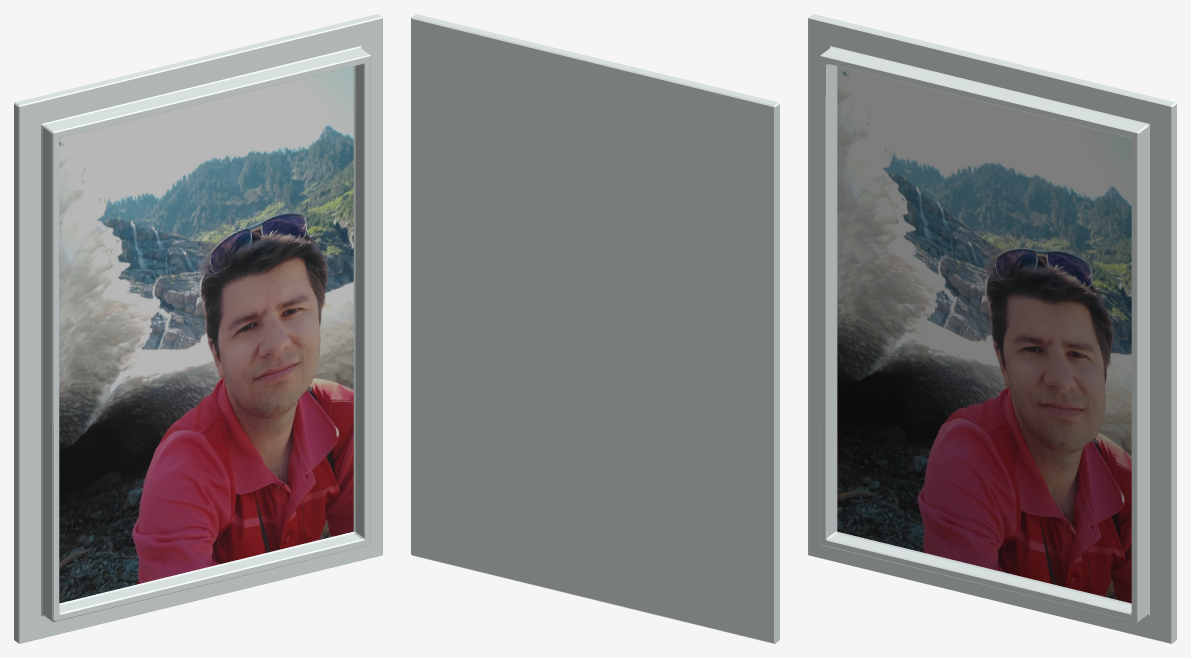
File: aws_PortraitB_01_visual.DAE
The picture shows the model from 3 angles, left to right: view 1: azimuth 30°, elevation 25°; view 2: azimuth 150°, elevation 25°; view 3: azimuth 330°, elevation 25°; orthographic projection.
Visible parts, largest first — view 1: aws_PortraitB_01_visual; view 2: aws_PortraitB_01_visual; view 3: aws_PortraitB_01_visual.
Part boxes in pixels (x1,y1,x2,y2): aws_PortraitB_01_visual: (14, 14, 382, 643); aws_PortraitB_01_visual: (411, 14, 779, 643); aws_PortraitB_01_visual: (808, 14, 1176, 643).
Size of the model in its own units: 49.04 by 3.83 by 69.18.
Materials: 2 (2 with a texture image).
